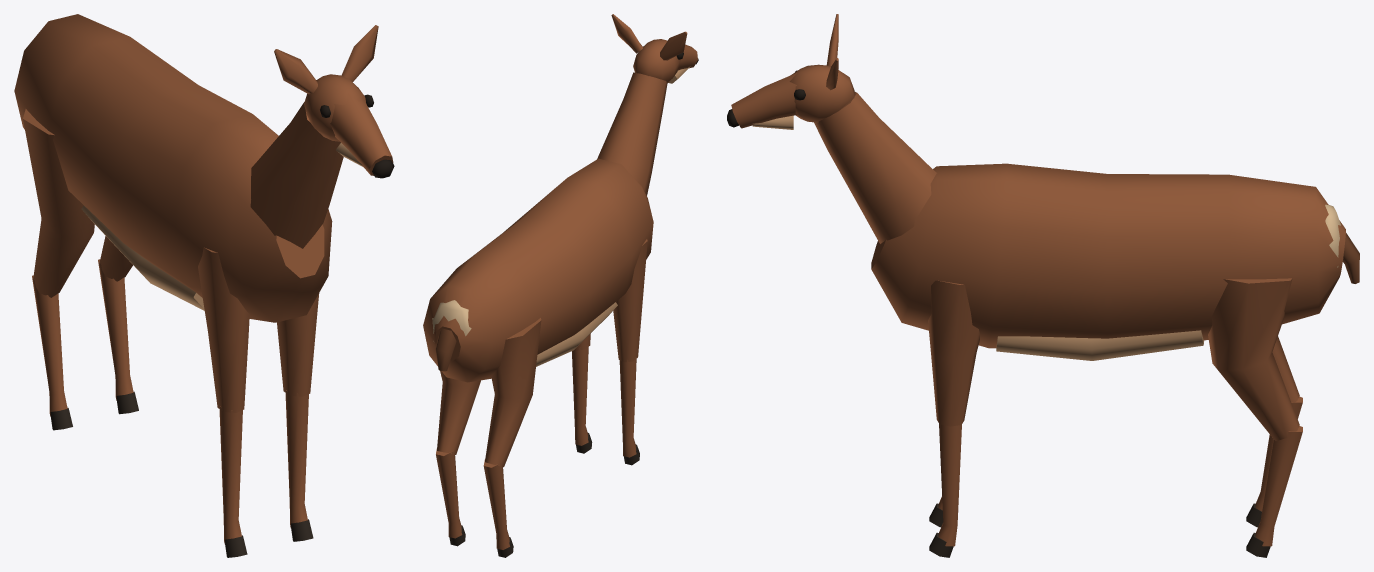
Rendered from animal_deer_hind.glb.
The picture shows the model from 3 angles, left to right: view 1: azimuth 30°, elevation 25°; view 2: azimuth 150°, elevation 25°; view 3: azimuth 270°, elevation 25°; orthographic projection. The views are drawn at different scales.
Visible parts, largest first — view 1: body, neck, legU_BR, legU_FR, head, legL_FR, legL_FL, legU_FL, legL_BL, legL_BR, ear_R, ear_L (+1 smaller); view 2: body, neck, legU_BR, legU_FR, legU_BL, head, legL_FR, legL_FL, legL_BL, legL_BR, tail, ear_R (+1 smaller); view 3: body, neck, legU_BL, legU_FL, head, legL_BL, legL_FL, legL_BR.
Part boxes in pixels (x1,y1,x2,y2): body: (14, 14, 332, 322); neck: (250, 102, 343, 248); legU_BR: (23, 109, 94, 297); legU_FR: (198, 247, 249, 412); head: (304, 74, 394, 178); legL_FR: (219, 406, 247, 557); legL_FL: (285, 390, 313, 541); legU_FL: (277, 293, 319, 396); legL_BL: (98, 259, 138, 414); legL_BR: (32, 275, 72, 430); ear_R: (274, 49, 317, 94); ear_L: (341, 25, 378, 82); body: (423, 158, 653, 382); neck: (597, 72, 667, 195); legU_BR: (485, 318, 541, 467); legU_FR: (613, 239, 647, 362); legU_BL: (437, 370, 480, 454); head: (633, 39, 698, 83); legL_FR: (619, 357, 639, 465); legL_FL: (572, 345, 592, 453); legL_BL: (436, 449, 465, 546); legL_BR: (483, 459, 513, 557); tail: (435, 328, 456, 371); ear_R: (660, 31, 687, 60); body: (871, 163, 1345, 360); neck: (814, 92, 936, 243); legU_BL: (1208, 278, 1299, 440); legU_FL: (928, 280, 979, 426); head: (727, 64, 854, 129); legL_BL: (1246, 426, 1302, 557); legL_FL: (929, 424, 961, 557); legL_BR: (1246, 396, 1302, 527).
Bounding box in the file's own units: 0.3969 × 1.56 × 1.77.
